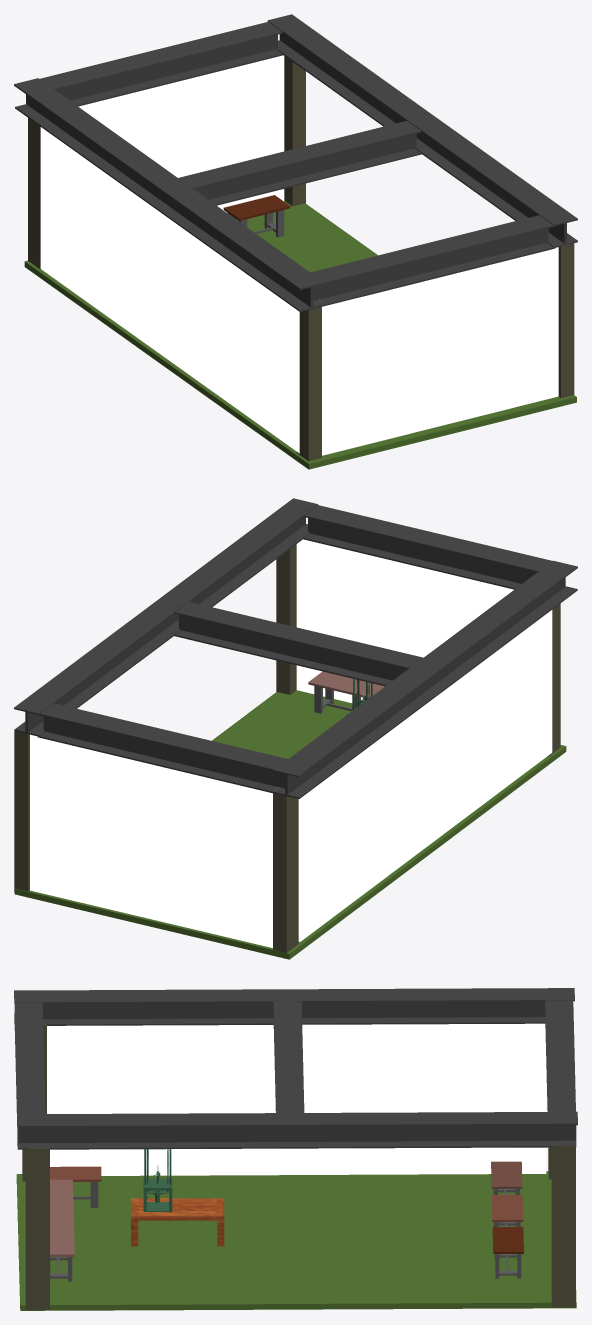
File: salontraccion.glb
3 views of the same model, one above another, from view 1: azimuth 30°, elevation 25°; view 2: azimuth 150°, elevation 25°; view 3: azimuth 270°, elevation 25° (orthographic).
Parts seen in each view (by area): view 1: Vigas_Amarre, Cubo, Cubo.003, Cubo.002, Cubo.001, Cubo.006, Cubo.007, Cubo.004, Cubo.005, Mesa.Lab3; view 2: Vigas_Amarre, Cubo.002, Cubo, Cubo.003, Cubo.001, Cubo.005, Cubo.004, Cubo.007, mesa5, Cubo.006; view 3: Cubo.001, Cubo, Vigas_Amarre, Cubo.004, Cubo.007, Box001, Mesa.Lab3, main, mesa2, mesa5, Mesa.Lab1, Mesa.Lab2 (+2 smaller).
Part boxes in pixels (x1=…): Vigas_Amarre: x1=14, y1=14, x2=577, y2=311; Cubo: x1=40, y1=127, x2=299, y2=453; Cubo.003: x1=322, y1=247, x2=558, y2=455; Cubo.002: x1=78, y1=55, x2=284, y2=212; Cubo.001: x1=24, y1=201, x2=576, y2=469; Cubo.006: x1=296, y1=299, x2=321, y2=461; Cubo.007: x1=558, y1=243, x2=574, y2=397; Cubo.004: x1=284, y1=56, x2=305, y2=206; Cubo.005: x1=28, y1=118, x2=40, y2=269; Mesa.Lab3: x1=223, y1=195, x2=290, y2=237; Vigas_Amarre: x1=14, y1=498, x2=577, y2=798; Cubo.002: x1=30, y1=734, x2=272, y2=947; Cubo: x1=298, y1=610, x2=552, y2=941; Cubo.003: x1=296, y1=539, x2=513, y2=702; Cubo.001: x1=14, y1=690, x2=566, y2=959; Cubo.005: x1=273, y1=787, x2=298, y2=952; Cubo.004: x1=14, y1=730, x2=29, y2=892; Cubo.007: x1=276, y1=544, x2=296, y2=694; mesa5: x1=308, y1=671, x2=374, y2=713; Cubo.006: x1=547, y1=603, x2=560, y2=756; Cubo.001: x1=16, y1=1171, x2=576, y2=1310; Cubo: x1=47, y1=1023, x2=546, y2=1175; Vigas_Amarre: x1=14, y1=988, x2=577, y2=1149; Cubo.004: x1=551, y1=1146, x2=575, y2=1307; Cubo.007: x1=25, y1=1148, x2=49, y2=1309; Box001: x1=131, y1=1198, x2=224, y2=1246; Mesa.Lab3: x1=492, y1=1226, x2=523, y2=1278; main: x1=143, y1=1149, x2=172, y2=1211; mesa2: x1=50, y1=1166, x2=101, y2=1207; mesa5: x1=50, y1=1229, x2=74, y2=1281; Mesa.Lab1: x1=491, y1=1161, x2=522, y2=1194; Mesa.Lab2: x1=492, y1=1195, x2=523, y2=1226.
Bounding box in the file's own units: 10.57 × 6.55 × 18.15.
Materials: 19 (1 with a texture image).
